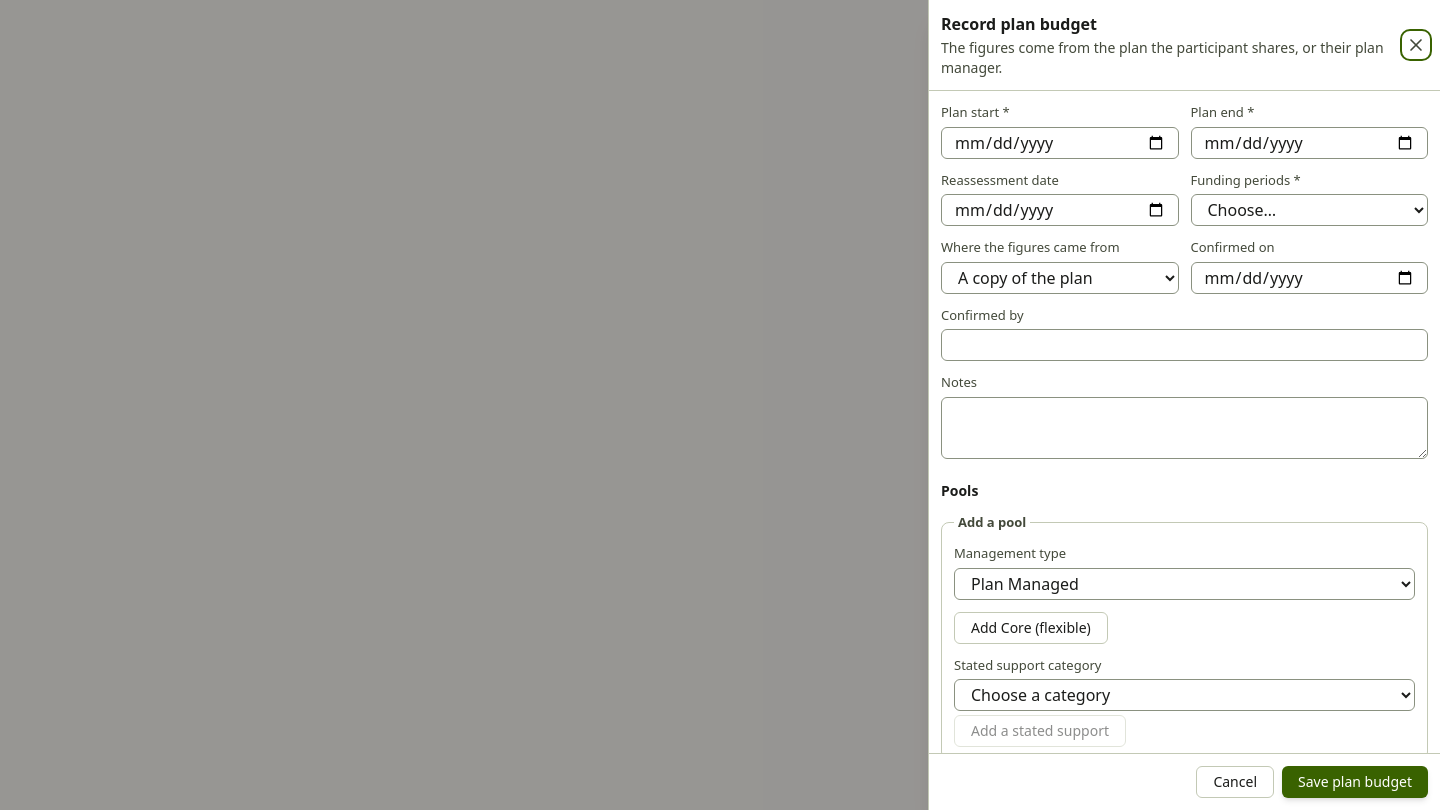
Test case: editor: a new plan › offers stated supports from the served list, never 01 to 04 or Recurring Transport (18)
The image size is (1440, 810).
Select "15 Improved Daily Living Skills" in the dropdown labelled "Stated support category" at (1184,695), box [954,679,1415,711]
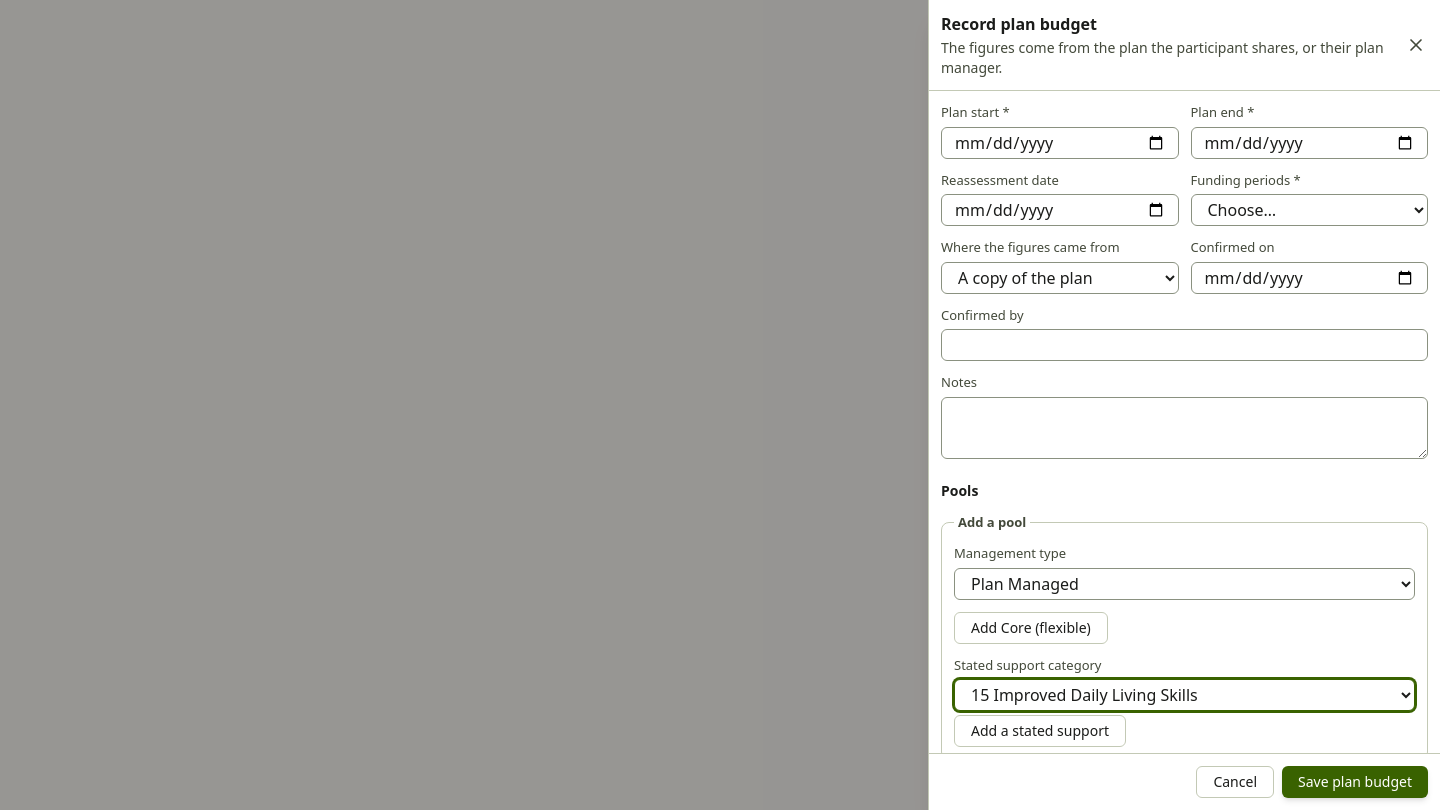
Click the button "Add a stated support" at (1040,731), box [954,715,1126,747]
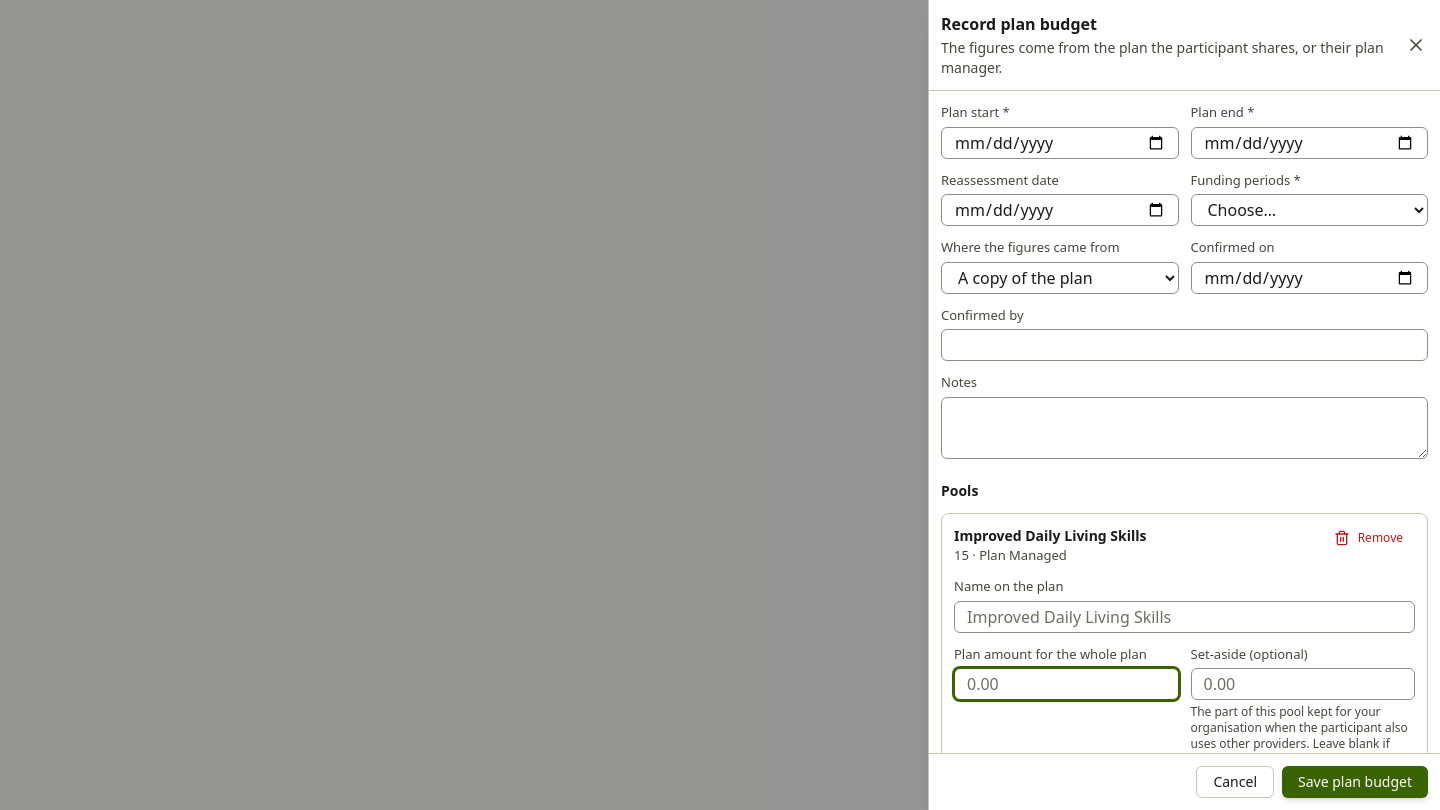
Result: the text "15" is shown at [954,546,969,564]
